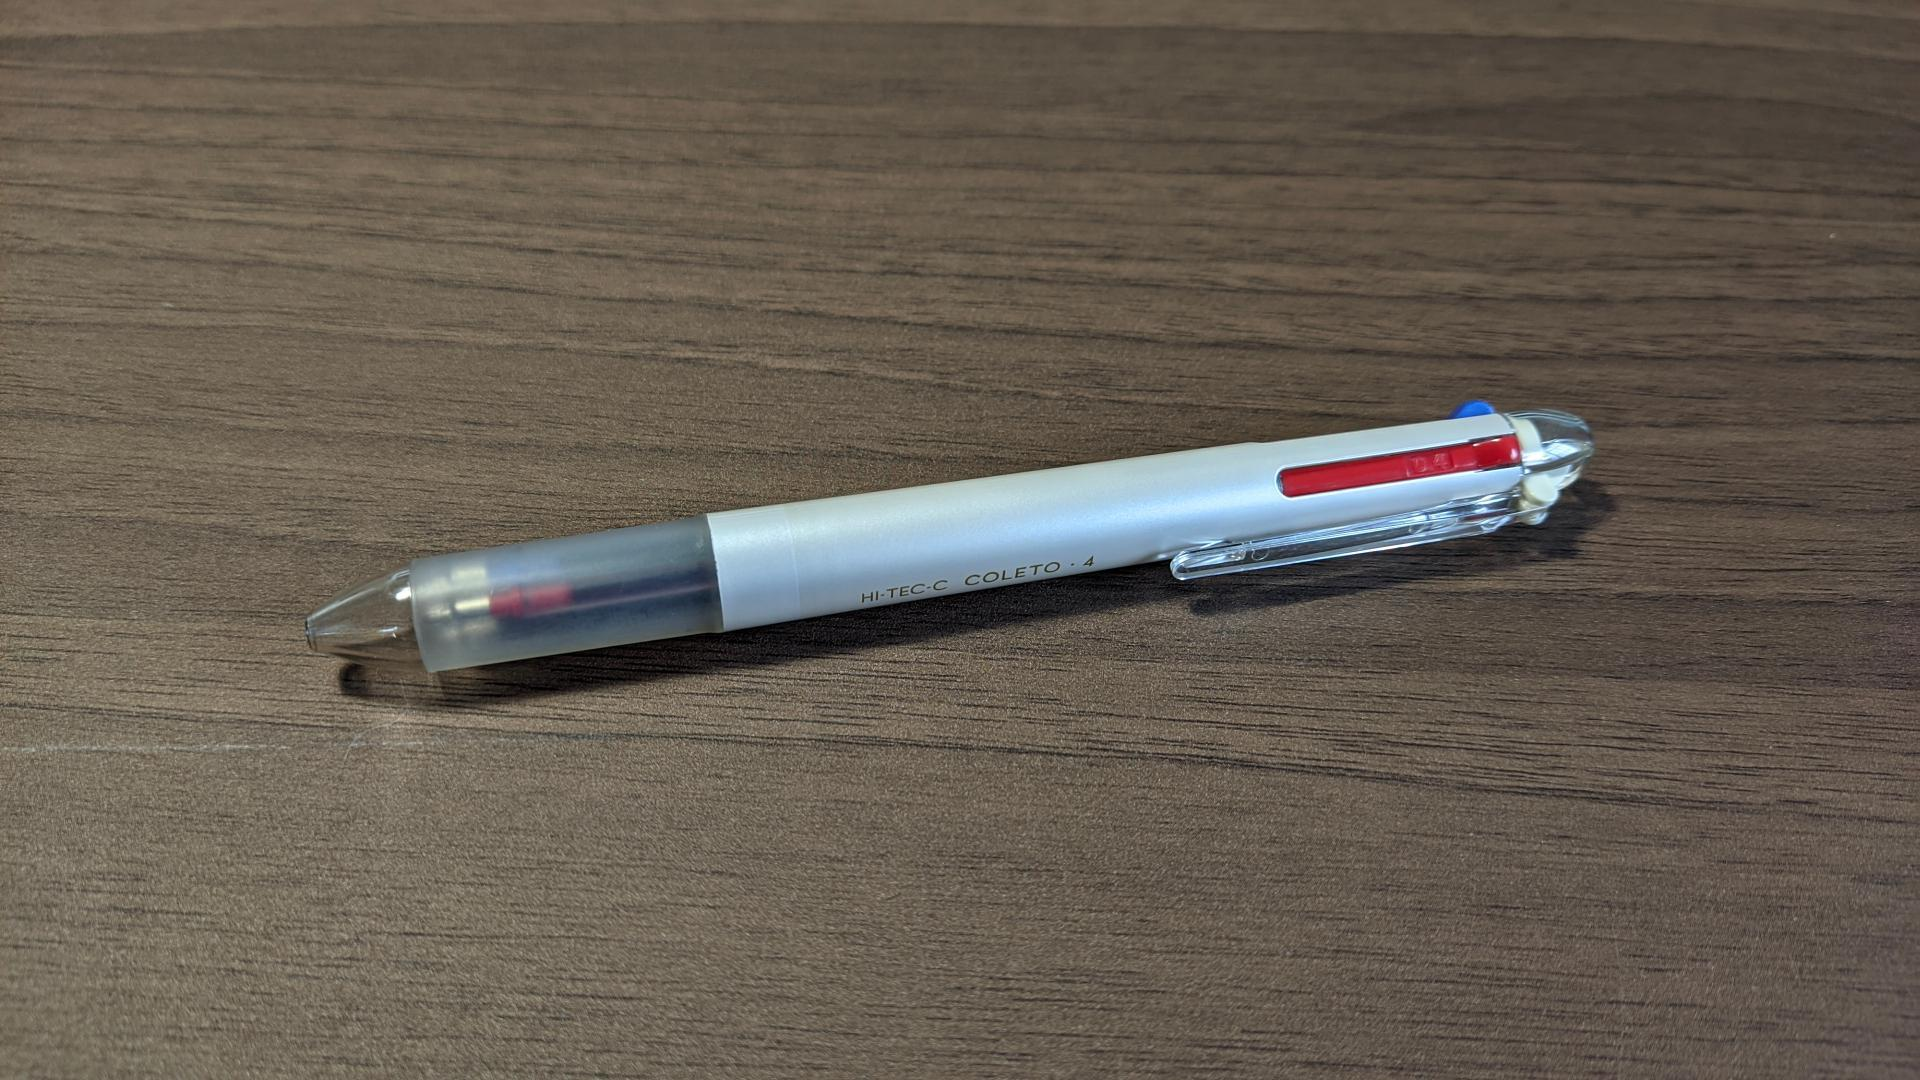pen: (244, 371, 1625, 761)
